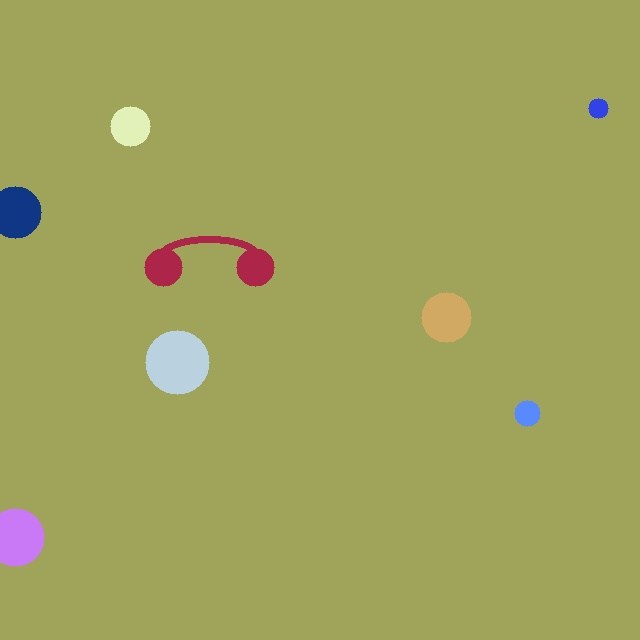over_ear: (140, 217, 278, 290)
